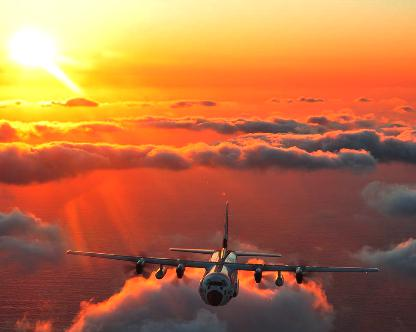Be200: (66, 201, 380, 307)
